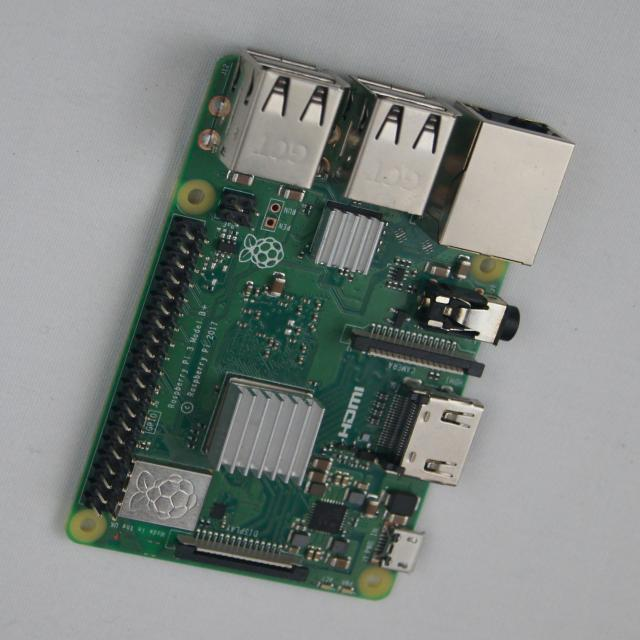Raspberry Pi 3 B-: (67, 50, 575, 600)
